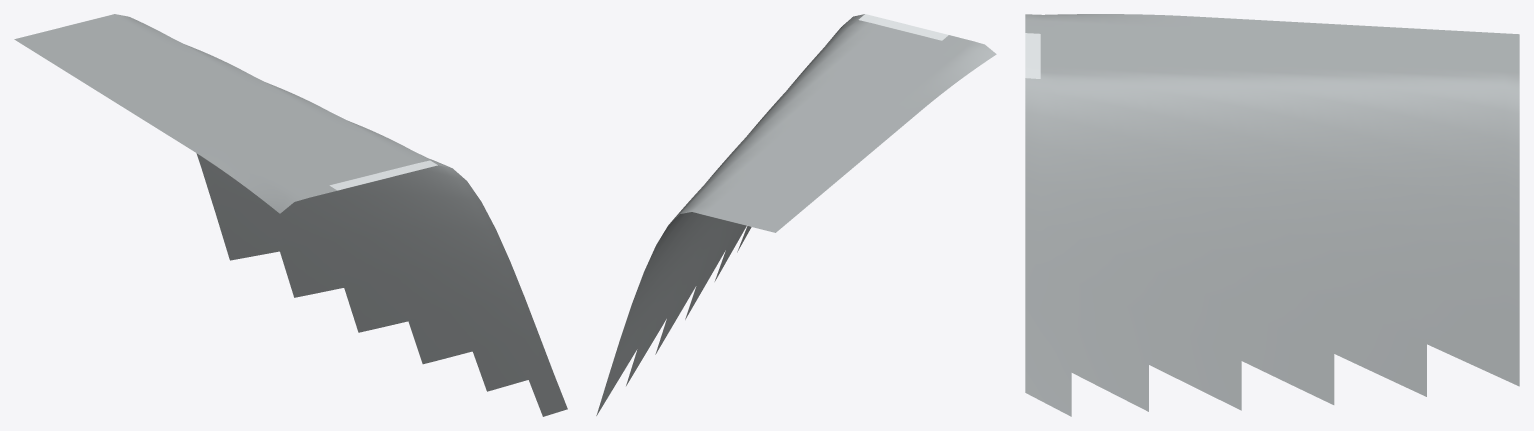
The model's file is alpine-12-6.glb.
3 renders of one model, left to right at view 1: azimuth 30°, elevation 25°; view 2: azimuth 150°, elevation 25°; view 3: azimuth 270°, elevation 25°, orthographic. The views are drawn at different scales.
Visible parts, largest first — view 1: alpine-12-6; view 2: alpine-12-6; view 3: alpine-12-6.
Boxes of the visible parts, left/top/right/bottom form: alpine-12-6: left=14, top=14, right=567, bottom=416; alpine-12-6: left=596, top=14, right=996, bottom=415; alpine-12-6: left=1025, top=14, right=1519, bottom=416.
Bounding box in the file's own units: 160 × 165 × 256.
Materials: 2 (2 with a texture image).
